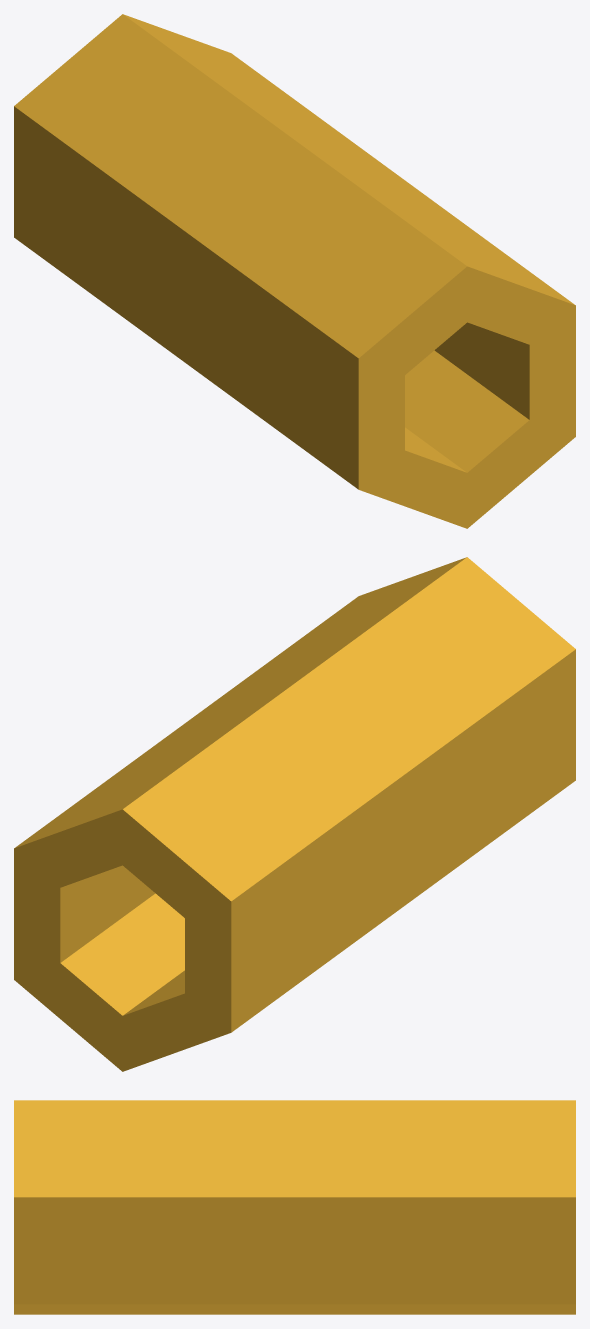
File: Sleeve.fbx
The picture shows the model from 3 angles, top to bottom: view 1: azimuth 30°, elevation 25°; view 2: azimuth 150°, elevation 25°; view 3: azimuth 270°, elevation 25°; orthographic projection. The views are drawn at different scales.
Parts seen in each view (by area): view 1: Sleeve; view 2: Sleeve; view 3: Sleeve.
Part boxes in pixels (x1,y1,x2,y2): Sleeve: (14,14,575,528); Sleeve: (14,557,575,1071); Sleeve: (14,1100,575,1314).
Size of the model in its own units: 0.0299 by 0.0345 by 0.0821.
